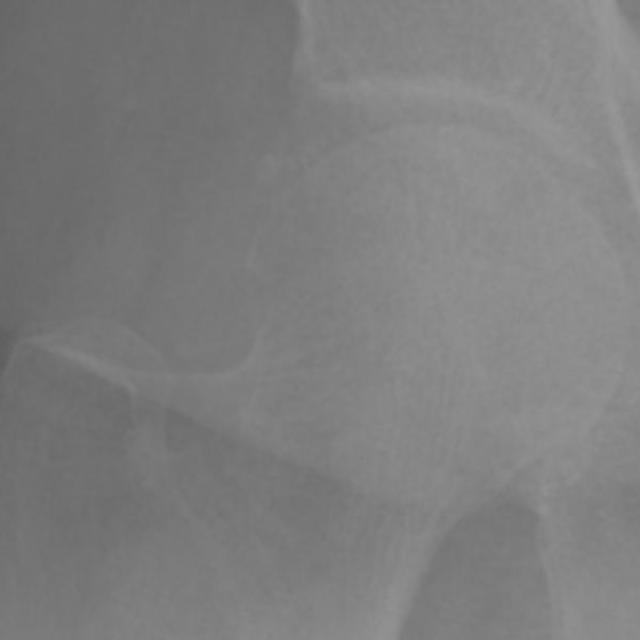Fitted_femural_head: (391, 125, 432, 391)
